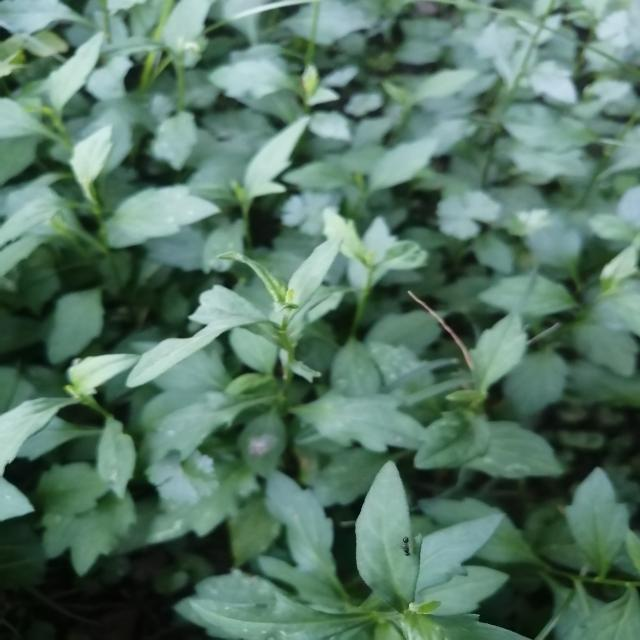Indian aster: (171, 436, 537, 640), (167, 199, 437, 447)
